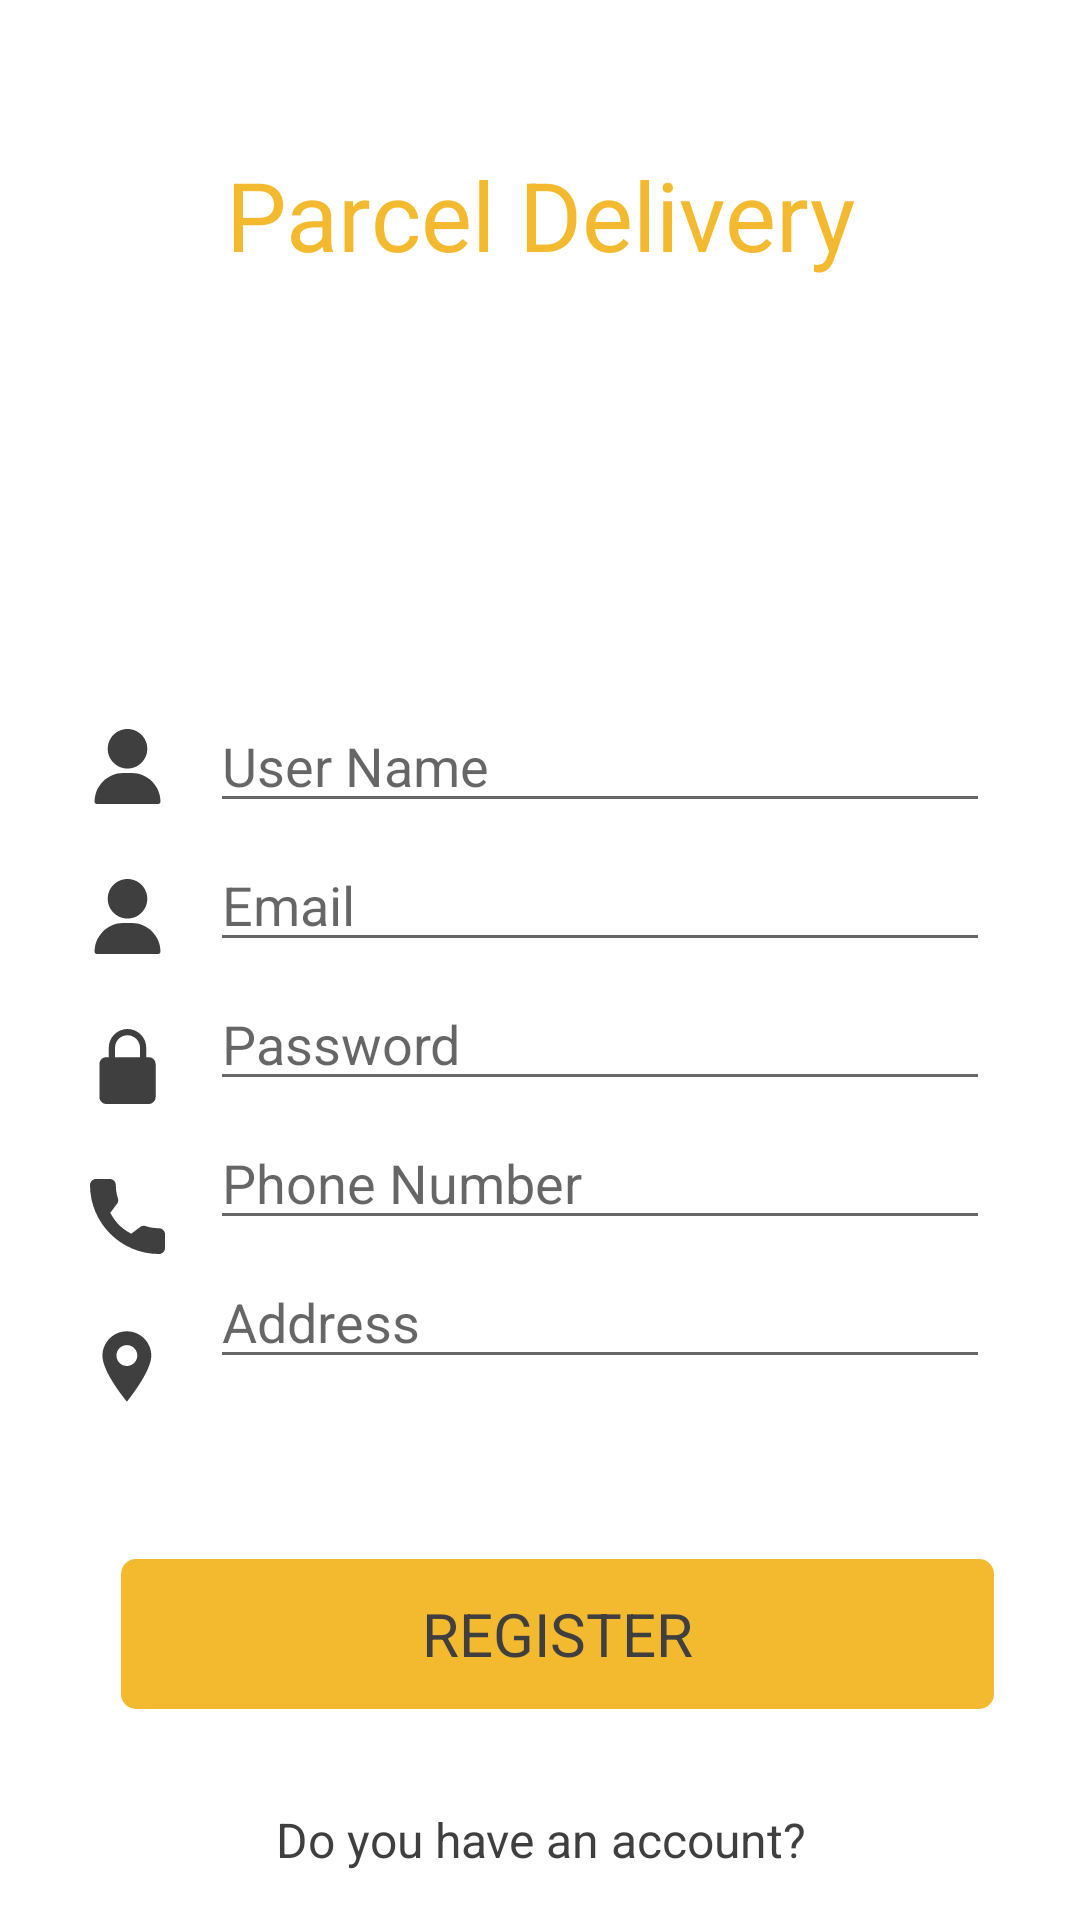

Icon bounding boxes for this 1080x1920 phone screenshot, format (x1, y1, x2, y2):
call: (90, 1179, 165, 1254)
location: (102, 1331, 152, 1402)
lock: (99, 1029, 156, 1104)
